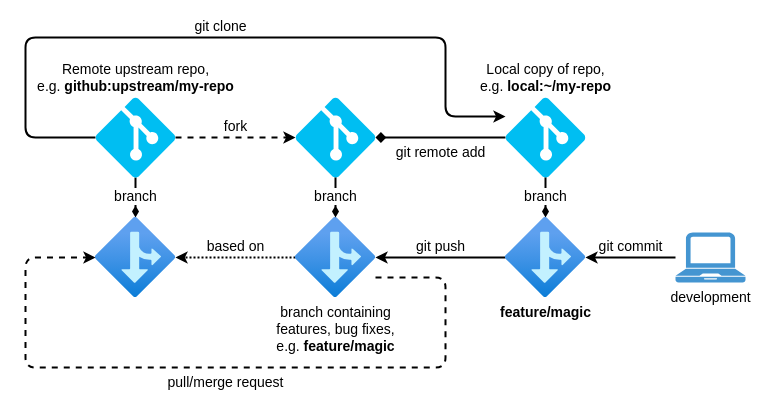
The diagram is 767 pixels wide and 408 high, and some of its shapes have lost their labels. Here are the shapes that lost their labels. From the top down, the box of each, then its label:
(295, 97, 375, 177): Remote copy of repo, e.g. github: jdoe/my-repo
(95, 217, 175, 297): Latest stable, e.g. devel
